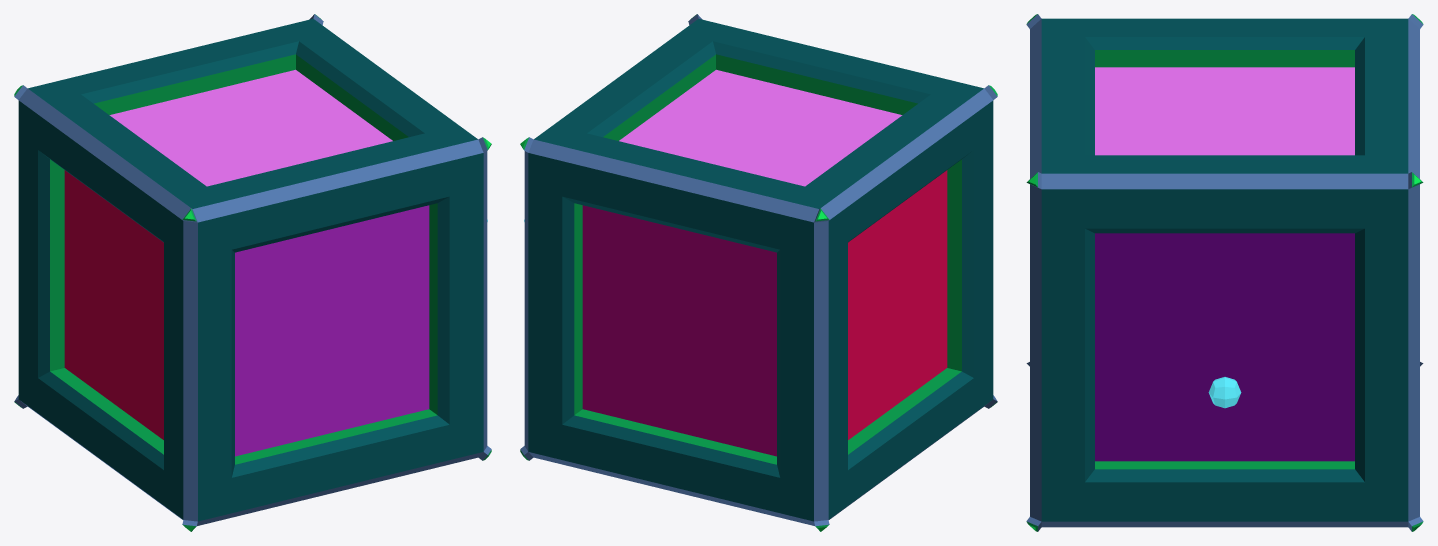
File: better-box2.glb
The picture shows the model from 3 angles, left to right: view 1: azimuth 30°, elevation 25°; view 2: azimuth 150°, elevation 25°; view 3: azimuth 270°, elevation 25°; orthographic projection. The views are drawn at different scales.
Parts seen in each view (by area): view 1: box; view 2: box; view 3: box, orb.
Part boxes in pixels (box(x1,y1,x2,y2)): box: box(14, 14, 491, 531); box: box(520, 14, 997, 531); box: box(1026, 14, 1423, 531); orb: box(1208, 377, 1241, 408).
Bounding box in the file's own units: 2.55 × 2.04 × 2.04.
Materials: 2 (2 with a texture image).
